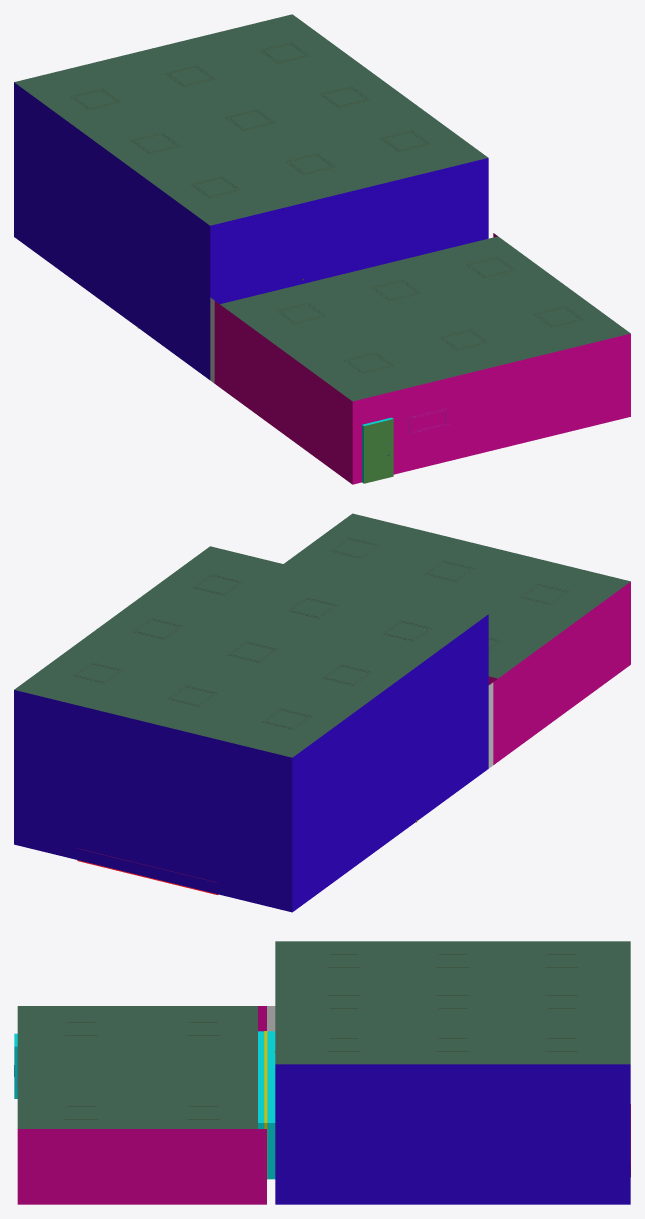
Rendered from rosatomRoom.fbx.
3 views of the same model, one above another, from view 1: azimuth 30°, elevation 25°; view 2: azimuth 150°, elevation 25°; view 3: azimuth 270°, elevation 25° (orthographic). The views are drawn at different scales.
Visible parts, largest first — view 1: ceilling, ReacroRoomWalls, mainRoomWalls, door, light; view 2: ceilling, ReacroRoomWalls, mainRoomWalls, light; view 3: ceilling, ReacroRoomWalls, mainRoomWalls, doorAndWindowSideWalls, light, window.
Part boxes in pixels (bbox=[...]): ceilling: bbox=[14, 14, 630, 401]; ReacroRoomWalls: bbox=[14, 82, 488, 379]; mainRoomWalls: bbox=[214, 233, 630, 484]; door: bbox=[364, 419, 393, 483]; light: bbox=[71, 42, 582, 373]; ceilling: bbox=[14, 513, 630, 757]; ReacroRoomWalls: bbox=[14, 614, 488, 912]; mainRoomWalls: bbox=[488, 581, 630, 764]; light: bbox=[73, 537, 568, 729]; ceilling: bbox=[17, 941, 630, 1128]; ReacroRoomWalls: bbox=[275, 1064, 630, 1204]; mainRoomWalls: bbox=[17, 1006, 266, 1204]; doorAndWindowSideWalls: bbox=[258, 1031, 275, 1179]; light: bbox=[65, 954, 577, 1119]; window: bbox=[264, 1031, 267, 1179].
Size of the model in its own units: 3510 by 1871 by 7420.
